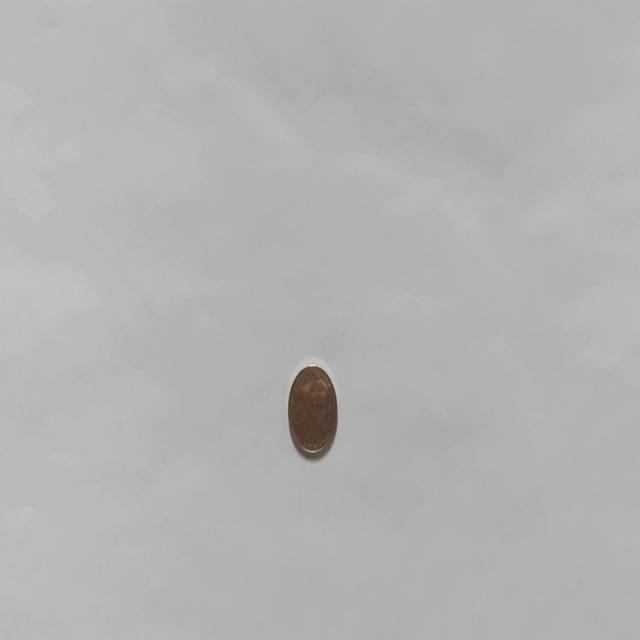seribu rupiah koin: (286, 359, 338, 459)
